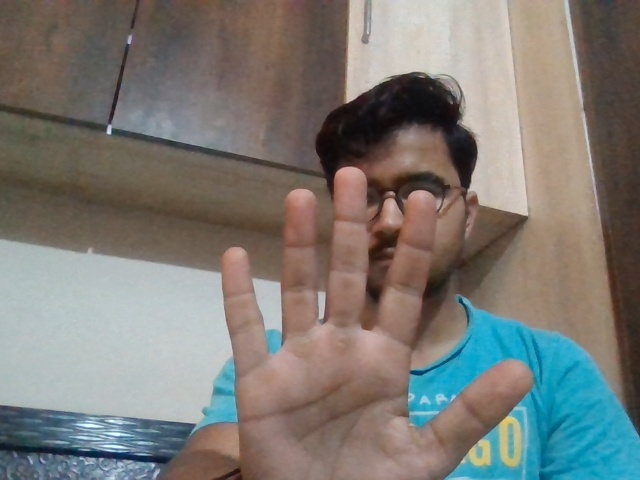hello: (193, 161, 533, 480)
